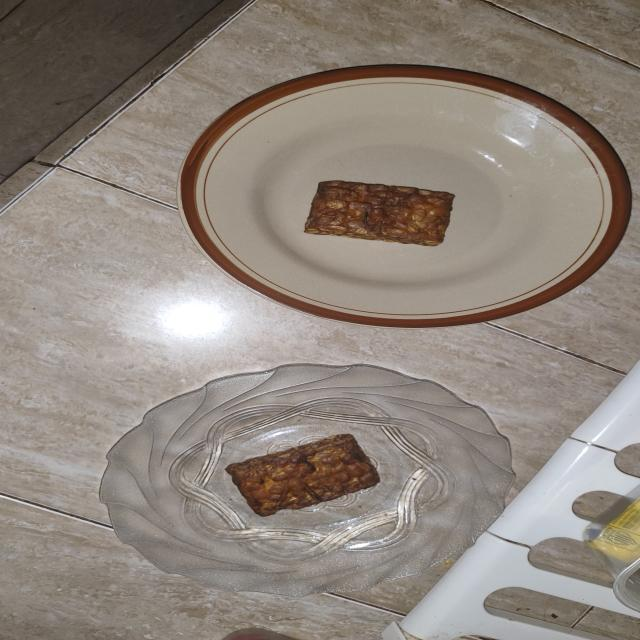tempe_goreng: (226, 434, 380, 516), (304, 180, 454, 247)
